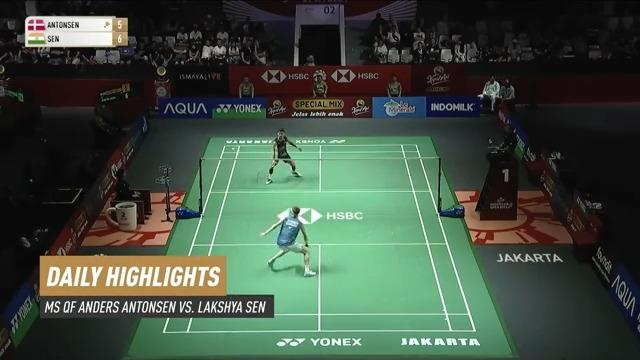Shuttlecock: (228, 146, 238, 152)
